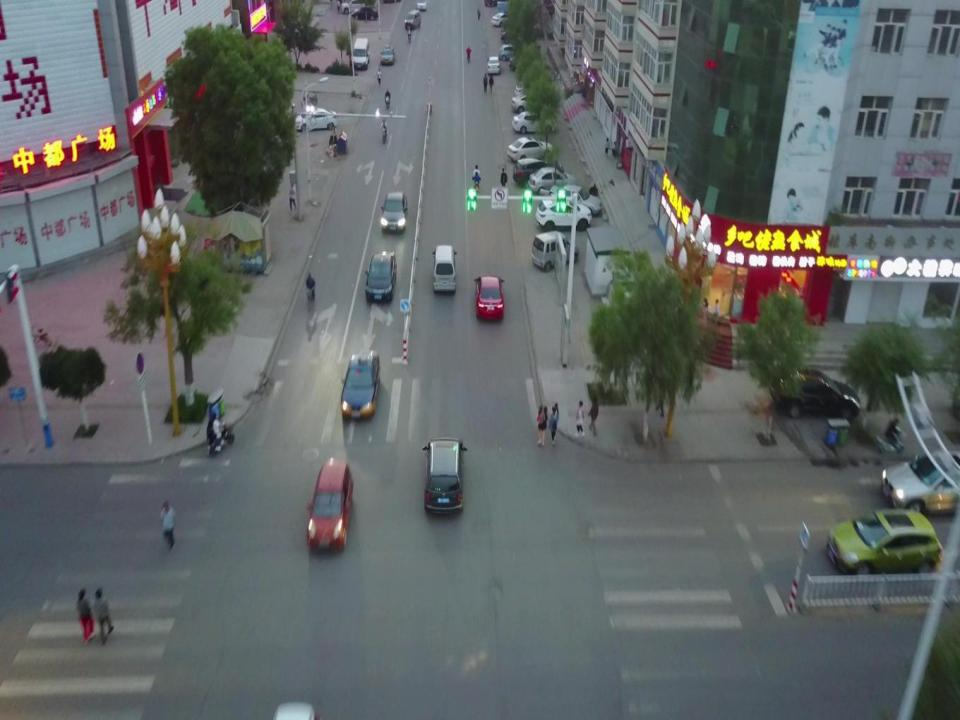car: (824, 509, 944, 584), (880, 451, 960, 518), (771, 367, 860, 422), (306, 459, 354, 554), (423, 434, 468, 516), (339, 350, 380, 418), (535, 198, 592, 231), (548, 184, 603, 216), (364, 251, 397, 302), (474, 272, 506, 319), (512, 158, 564, 186), (527, 166, 576, 194), (512, 110, 558, 136), (507, 136, 553, 161), (380, 191, 407, 233), (294, 108, 338, 131), (511, 93, 551, 113), (514, 79, 544, 98), (500, 27, 533, 44), (508, 54, 543, 70), (498, 44, 528, 60), (340, 0, 372, 14), (351, 6, 380, 19), (490, 12, 514, 27), (380, 45, 396, 66), (487, 56, 501, 74), (416, 0, 428, 11)
van: (531, 230, 579, 272), (432, 244, 458, 294), (351, 36, 369, 70), (404, 10, 422, 30)
